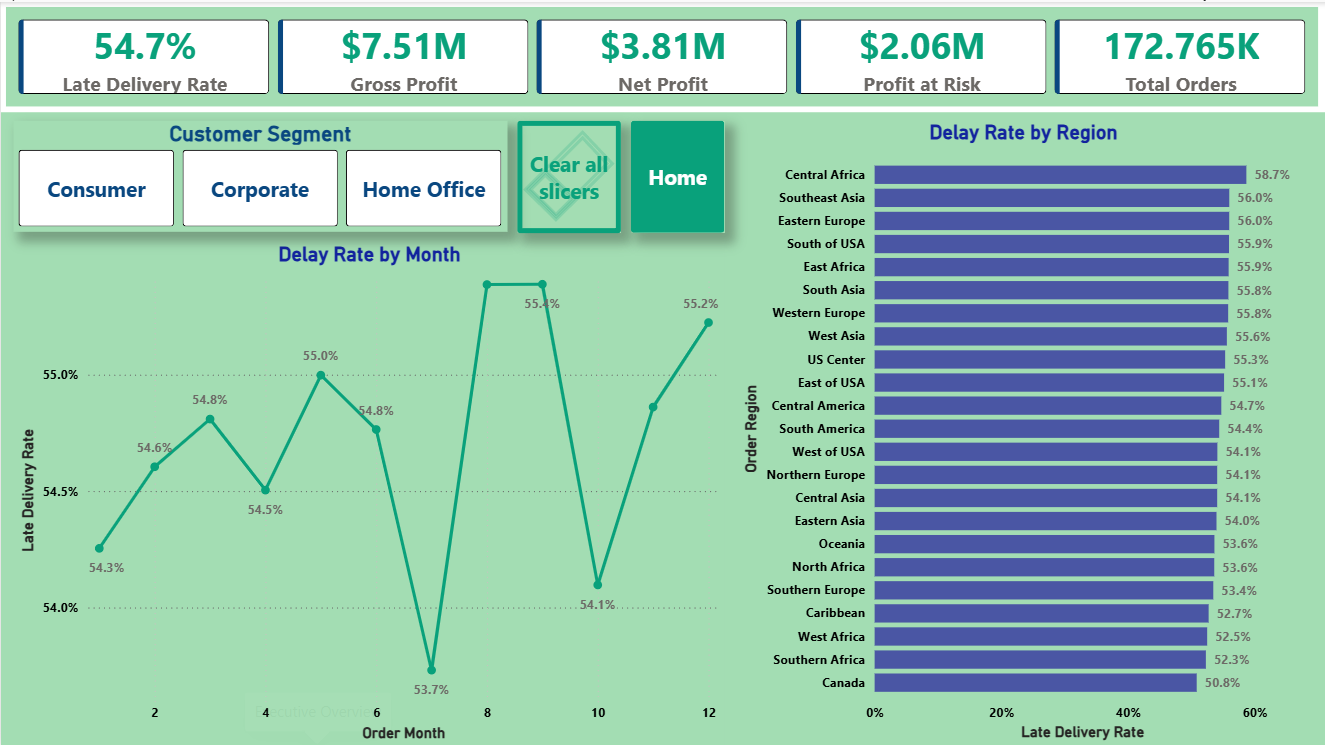

The dashboard page shown, as its layout file describes it:
{"tool":"powerbi","page":{"name":"Executive Overview","canvas":[1280,720],"ordinal":1},"visuals":[{"type":"cardVisual","fields":{"Data":["supply_chain_dashboard_data.Late Delivery Rate","supply_chain_dashboard_data.Gross Profit (Profitable Orders)","supply_chain_dashboard_data.Total Profit","supply_chain_dashboard_data.Profit at Risk","supply_chain_dashboard_data.Total Orders"]},"box":[0,0,1280,106.2],"z":0},{"type":"lineChart","title":"Delay Rate by Month","fields":{"Category":["supply_chain_dashboard_data.order_month"],"Y":["supply_chain_dashboard_data.Late Delivery Rate"]},"box":[13.5,232.3,684.8,485.5],"z":1000},{"type":"clusteredBarChart","title":"Delay Rate by Region","fields":{"Y":["supply_chain_dashboard_data.Late Delivery Rate"],"Category":["supply_chain_dashboard_data.Order Region"]},"box":[710.6,114.6,552.5,603.2],"z":2000},{"type":"advancedSlicerVisual","fields":{"Values":["supply_chain_dashboard_data.Customer Segment"]},"box":[12.1,114.6,476.5,107.4],"z":3000},{"type":"actionButton","box":[498.3,114.6,100.1,108.6],"z":4000},{"type":"pageNavigator","box":[608,114.6,90.5,108.6],"z":5000}]}

Visuals, with their boxes in screenshot pixels (x1, y1, x2, y2), scaled from the page's 1280x720 canvas onto the 1325x745 screenshot:
cardVisual - supply_chain_dashboard_data.Late Delivery Rate x supply_chain_dashboard_data.Gross Profit (Profitable Orders): x1=0, y1=0, x2=1324, y2=110
"Delay Rate by Month" lineChart: x1=14, y1=240, x2=723, y2=743
"Delay Rate by Region" clusteredBarChart: x1=736, y1=119, x2=1308, y2=743
advancedSlicerVisual - supply_chain_dashboard_data.Customer Segment: x1=13, y1=119, x2=506, y2=230
actionButton: x1=516, y1=119, x2=619, y2=231
pageNavigator: x1=629, y1=119, x2=723, y2=231
